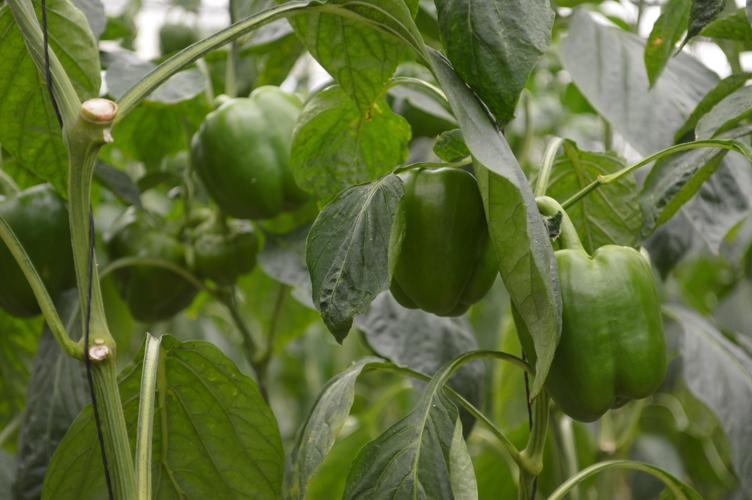BellPepper: (538, 243, 668, 415), (390, 172, 503, 319), (191, 85, 302, 215), (5, 185, 79, 326), (110, 209, 202, 315), (182, 220, 260, 283)
